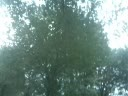window: (95, 38, 105, 61), (71, 46, 80, 69), (99, 81, 108, 95), (73, 85, 79, 95)
